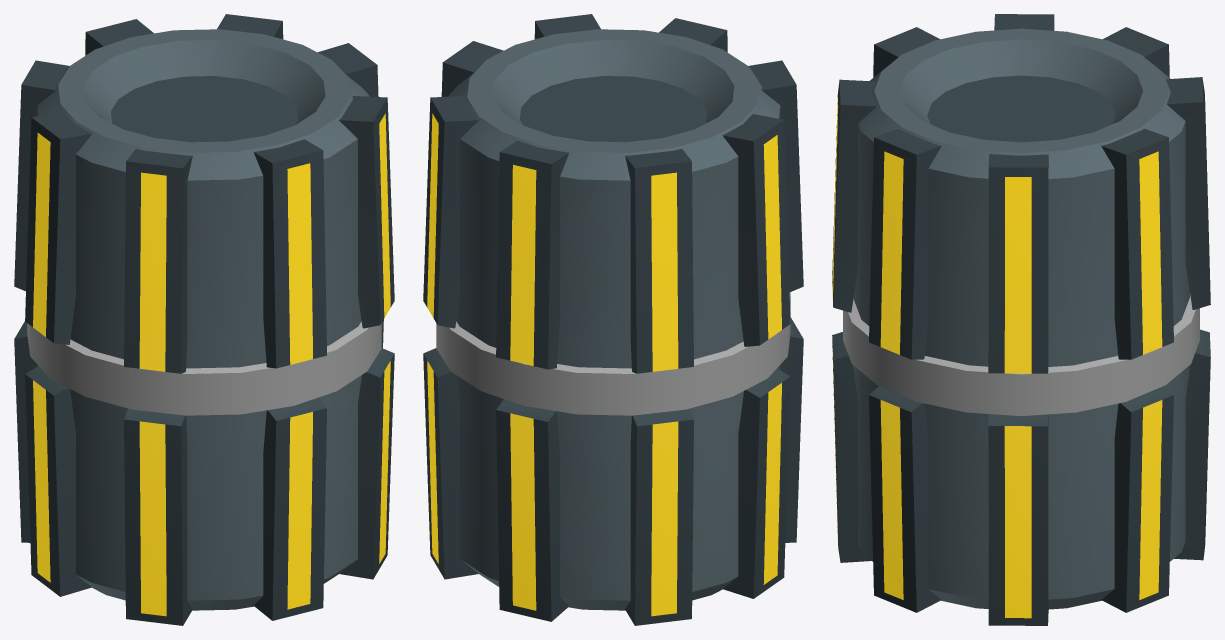
Rendered from Battery_003.glb.
3 renders of one model, left to right at view 1: azimuth 30°, elevation 25°; view 2: azimuth 150°, elevation 25°; view 3: azimuth 270°, elevation 25°, orthographic.
Parts seen in each view (by area): view 1: Battery_003; view 2: Battery_003; view 3: Battery_003.
Boxes of the visible parts, bbox=[...] form: Battery_003: bbox=[14, 14, 394, 625]; Battery_003: bbox=[423, 14, 803, 625]; Battery_003: bbox=[832, 14, 1210, 625].
Size of the model in its own units: 0.5065 by 0.6762 by 0.5065.
Materials: 2 (2 with a texture image).
